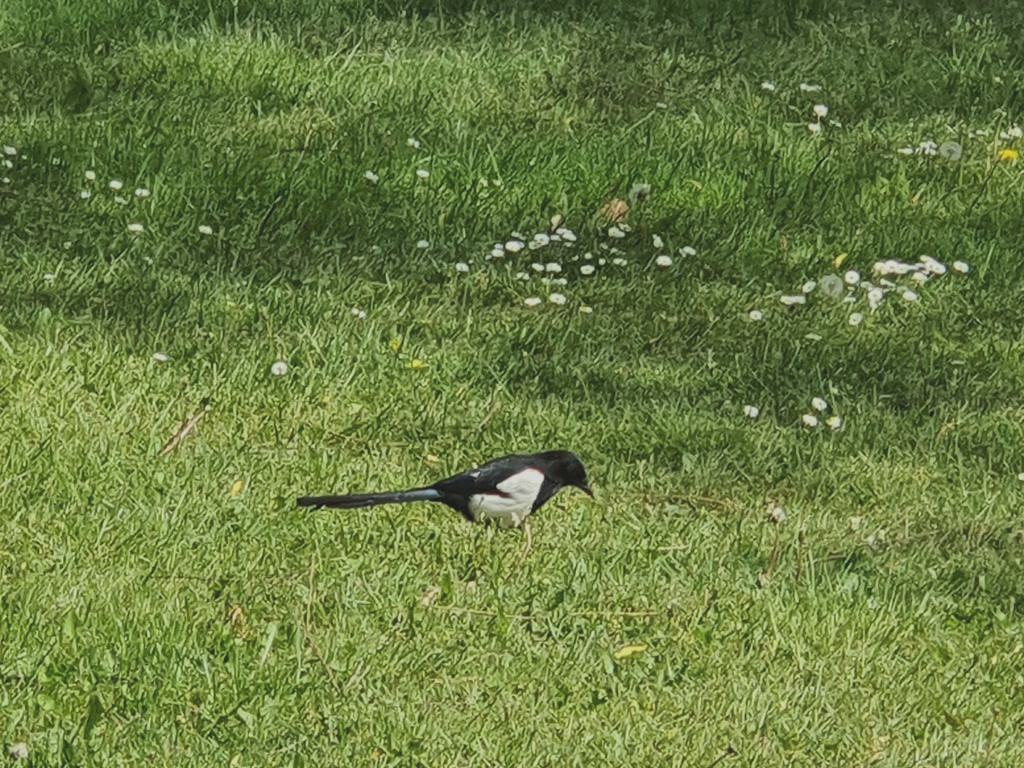PicaPica: (295, 449, 595, 525)
